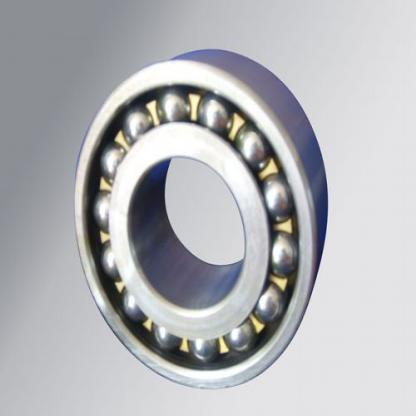FOD: (71, 46, 332, 396)
